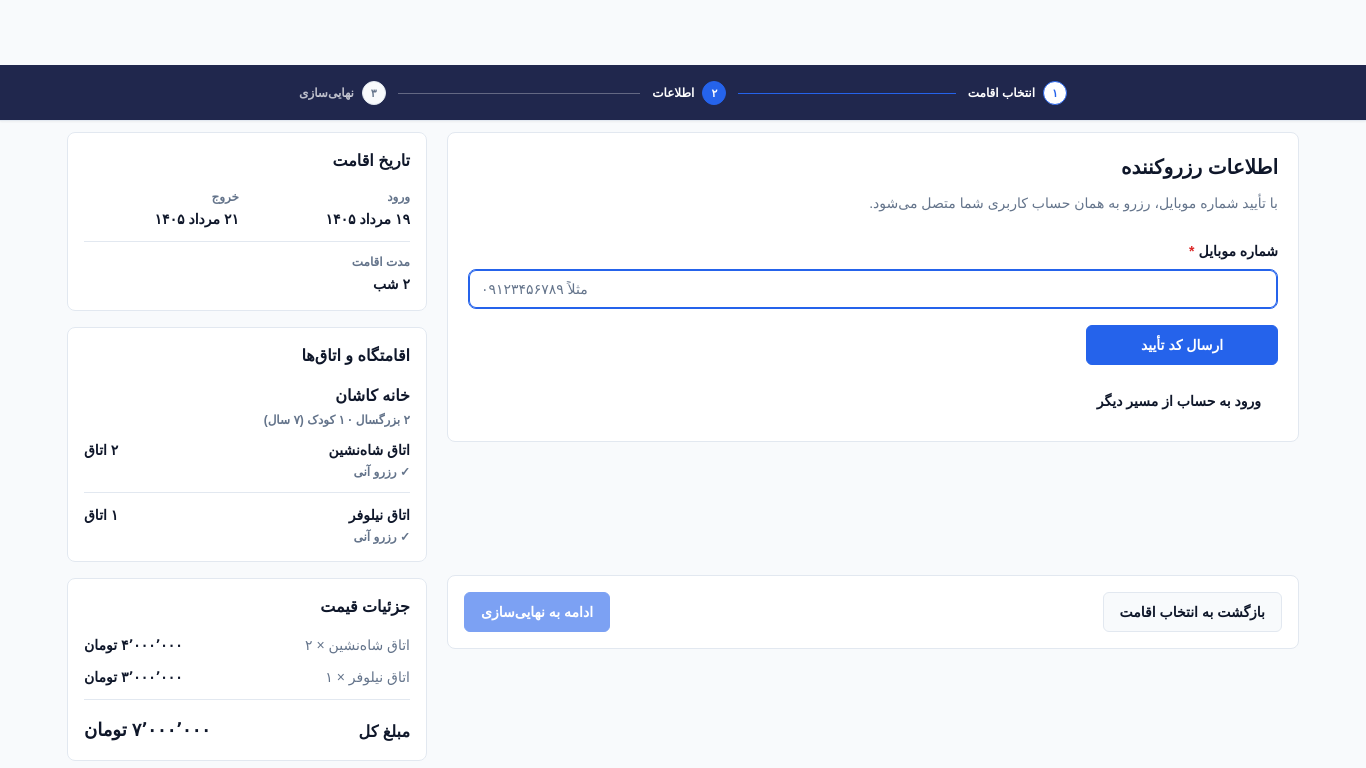
multi-step booking checkout skeleton › shows a safe invalid OTP error and does not allow progression
Type "09121234567" into the field labelled "شماره موبایل*".
click(873, 289); type("09121234567")  # box [468,269,1278,309]
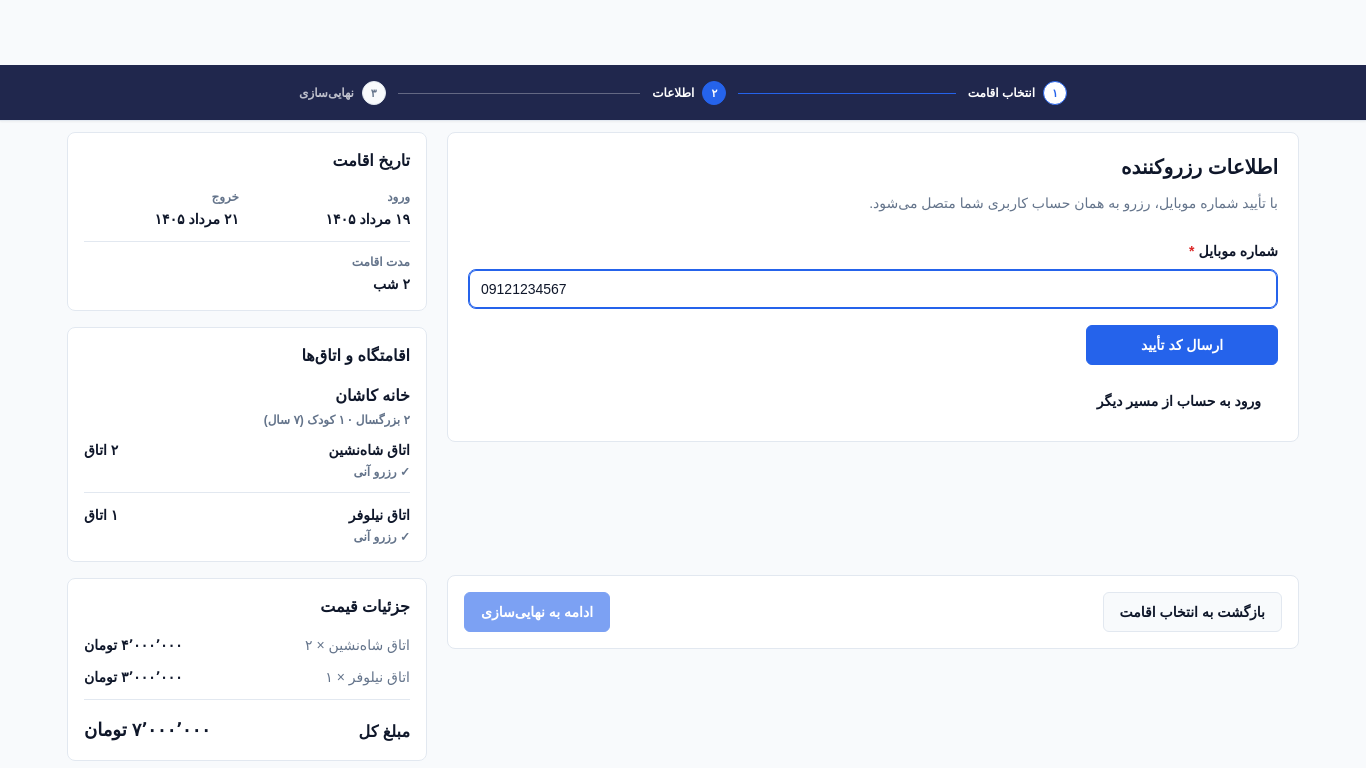
Click the button "ارسال کد تأیید".
click(1182, 345)  # box [1086,325,1278,365]
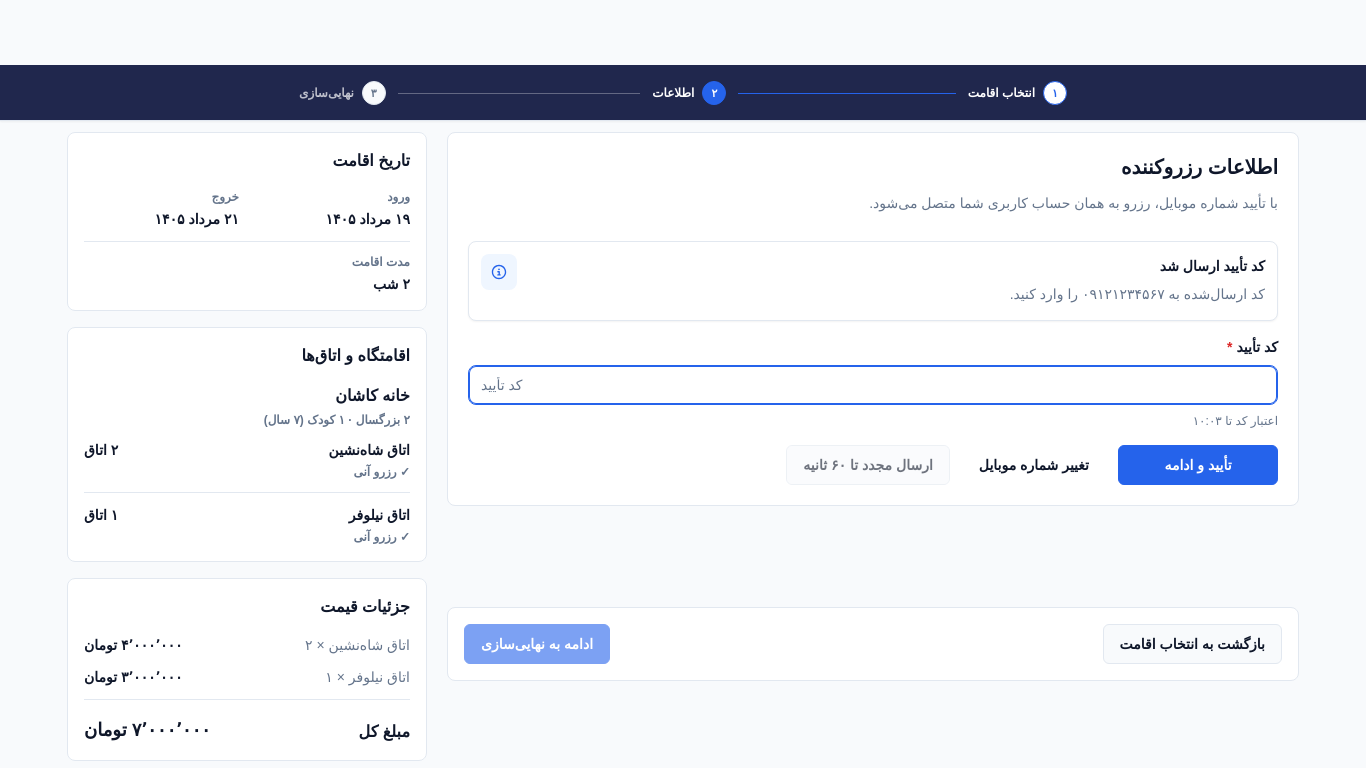
Type "000000" into the field labelled "کد تأیید*".
click(873, 385); type("000000")  # box [468,365,1278,405]
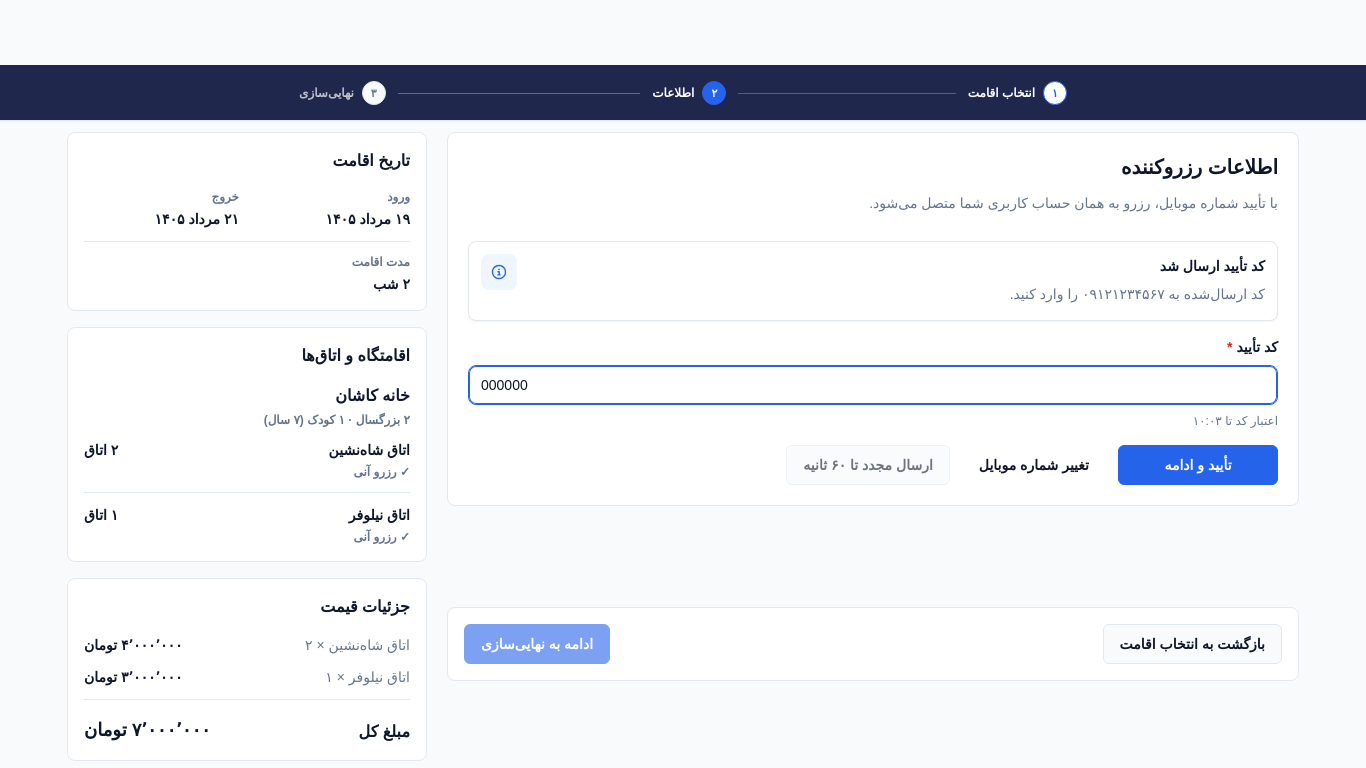
Click the button "تأیید و ادامه".
click(1198, 465)  # box [1118,445,1278,485]
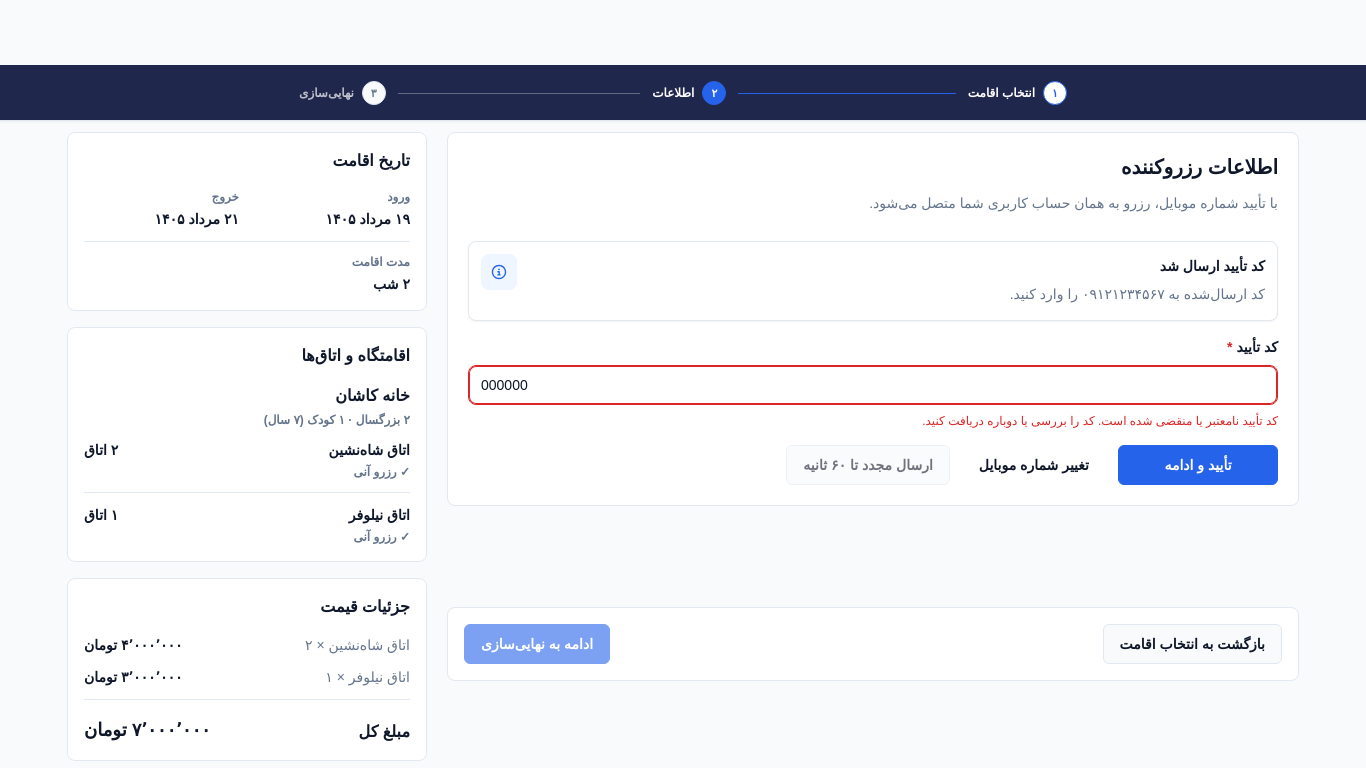
Expected: the text "کد تأیید نامعتبر یا منقضی شده است. کد را بررسی یا دوباره دریافت کنید." is shown, [922,414,1278,428]
